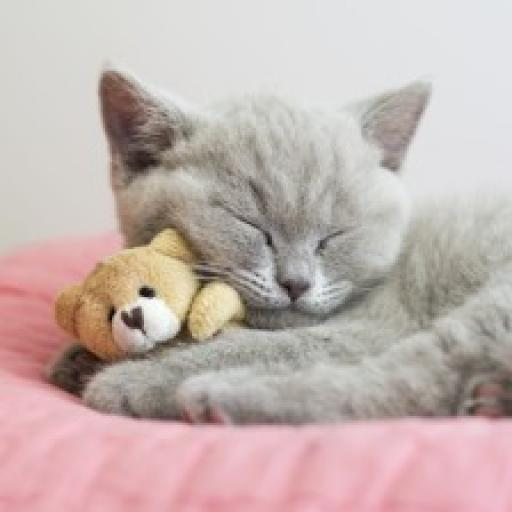cat: (55, 48, 512, 432)
